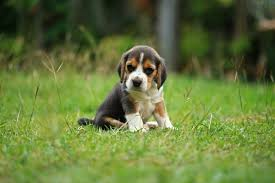dog_sitting: (75, 43, 179, 136)
